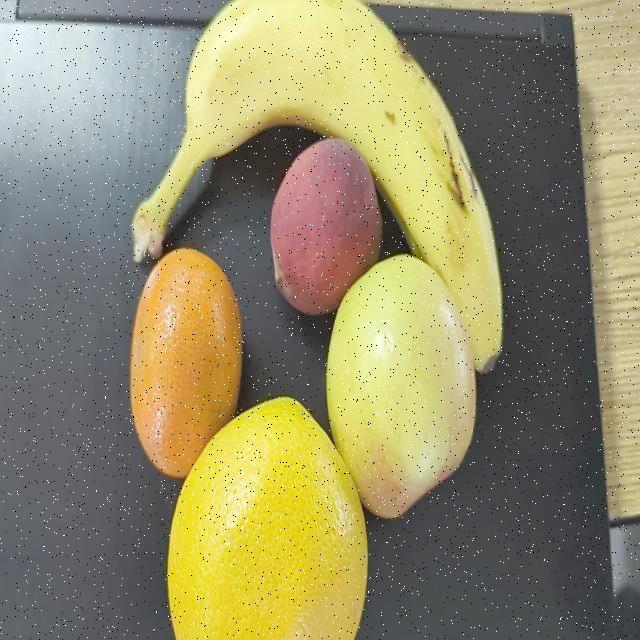Apel Gala: (334, 247, 488, 576)
Jeruk: (164, 393, 362, 640)
Jeruk Mandarin: (135, 240, 239, 448)
Persik: (265, 154, 389, 335)
Pisang: (145, 3, 505, 370)
